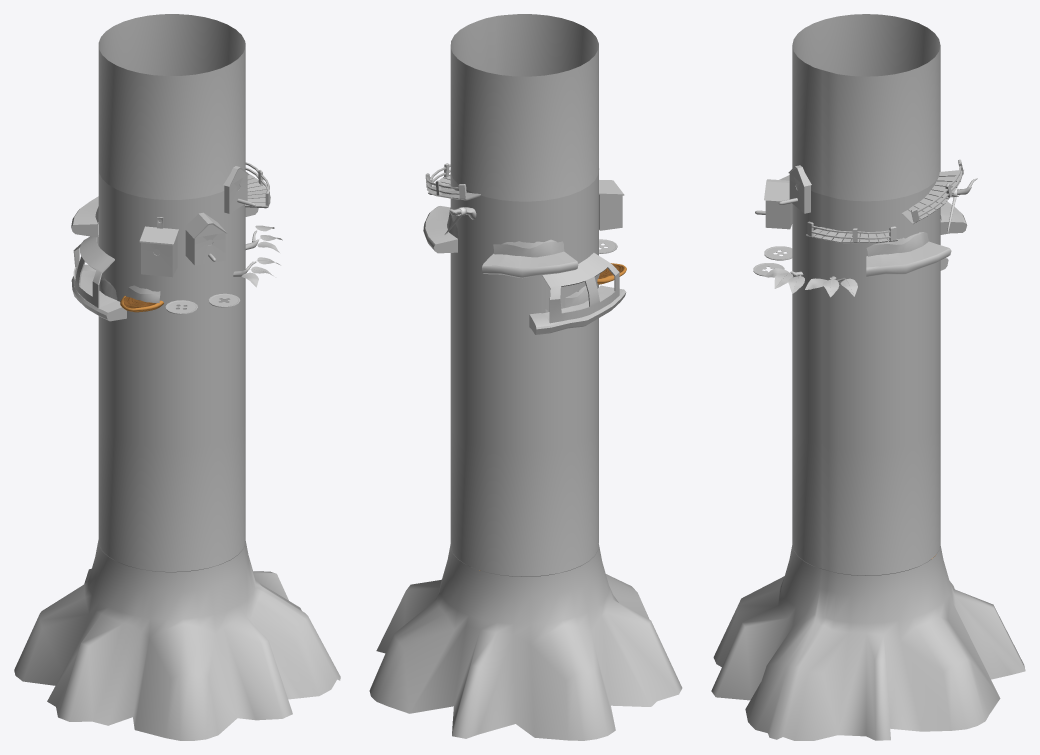
3 views of the same model, side by side, from view 1: azimuth 30°, elevation 25°; view 2: azimuth 150°, elevation 25°; view 3: azimuth 270°, elevation 25° (orthographic).
Visible parts, largest first — view 1: Circle.091, Circle.016, Circle.011, Circle.012, Circle.007, Circle.090, Cube.039, Cube.042, Cube.033, palnk_low.008, palnk_low.002; view 2: Circle.091, Circle.016, Circle.011, Circle.012, Circle.007, Circle.090, palnk_low.002, palnk_low.001, Cube.039, Circle.019, palnk_low.006; view 3: Circle.091, Circle.016, Circle.011, Circle.012, Circle.007, palnk_low.001, palnk_low.006, Cube.042, palnk_low.008, Cube.033, Circle.018, palnk_low.002.
Part boxes in pixels (left/top/right/bottom): Circle.091: left=14, top=540, right=340, bottom=740; Circle.016: left=98, top=14, right=245, bottom=199; Circle.011: left=98, top=417, right=245, bottom=571; Circle.012: left=98, top=293, right=245, bottom=447; Circle.007: left=98, top=169, right=245, bottom=323; Circle.090: left=71, top=235, right=126, bottom=321; Cube.039: left=139, top=217, right=178, bottom=277; Cube.042: left=184, top=212, right=226, bottom=265; Cube.033: left=223, top=166, right=255, bottom=213; palnk_low.008: left=245, top=162, right=270, bottom=208; palnk_low.002: left=71, top=196, right=98, bottom=237; Circle.091: left=369, top=544, right=682, bottom=740; Circle.016: left=450, top=14, right=598, bottom=201; Circle.011: left=450, top=418, right=598, bottom=576; Circle.012: left=450, top=298, right=598, bottom=451; Circle.007: left=450, top=168, right=598, bottom=326; Circle.090: left=529, top=253, right=626, bottom=334; palnk_low.002: left=482, top=251, right=578, bottom=278; palnk_low.001: left=423, top=206, right=457, bottom=253; Cube.039: left=599, top=180, right=624, bottom=230; Circle.019: left=493, top=239, right=564, bottom=257; palnk_low.006: left=425, top=173, right=480, bottom=200; Circle.091: left=711, top=545, right=1025, bottom=740; Circle.016: left=792, top=14, right=940, bottom=201; Circle.011: left=792, top=420, right=940, bottom=575; Circle.012: left=792, top=295, right=940, bottom=450; Circle.007: left=792, top=170, right=940, bottom=325; palnk_low.001: left=866, top=241, right=951, bottom=277; palnk_low.006: left=902, top=159, right=963, bottom=223; Cube.042: left=755, top=179, right=792, bottom=229; palnk_low.008: left=806, top=221, right=897, bottom=243; Cube.033: left=778, top=165, right=811, bottom=213; Circle.018: left=866, top=232, right=928, bottom=256; palnk_low.002: left=940, top=201, right=967, bottom=234.
Size of the model in its own units: 683 by 1525 by 686.
